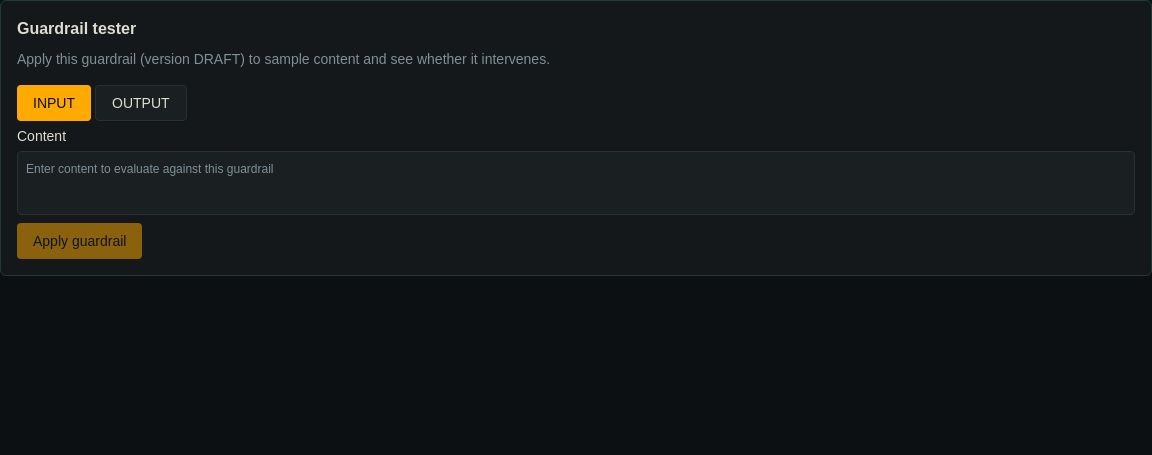
Test: GuardrailTester › treats action BLOCKED without a detected flag as blocked
The width and height of the screenshot is (1152, 455).
Type "explain the authentication mechanisms" into the text box labelled "Content" at (576, 183), box [17, 151, 1135, 215]
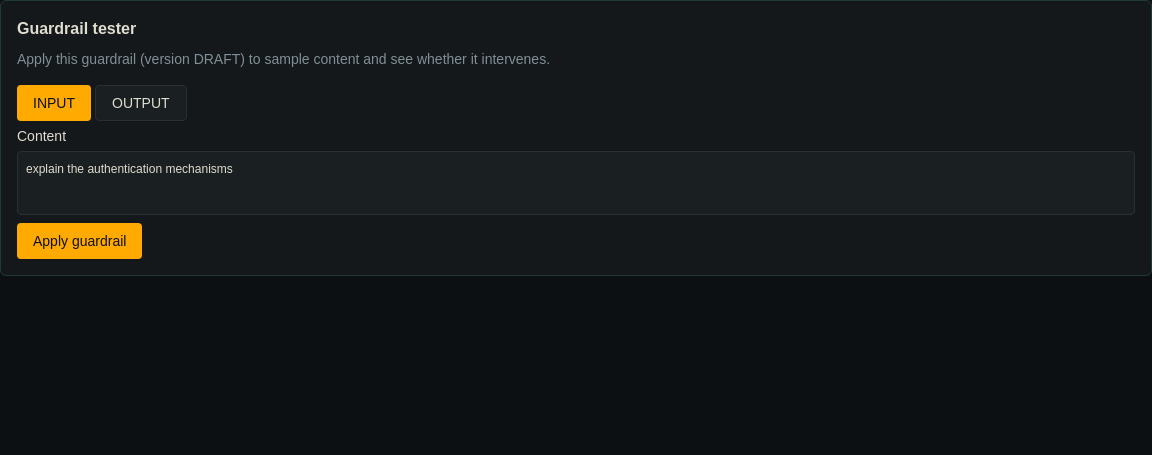
Click the button "Apply guardrail" at (80, 241), box [17, 223, 142, 259]
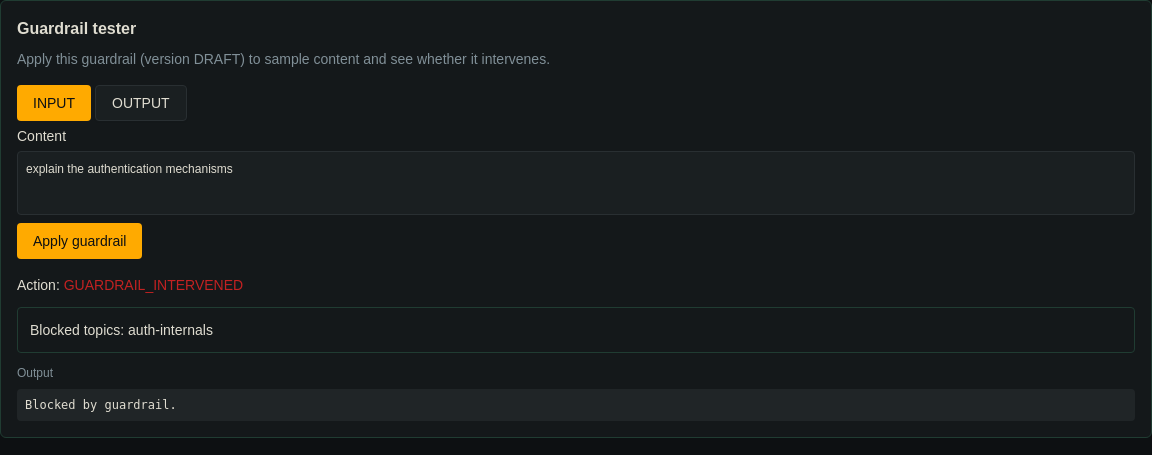
Check: the text "Blocked topics: auth-internals" is shown, box [30, 322, 213, 338]
